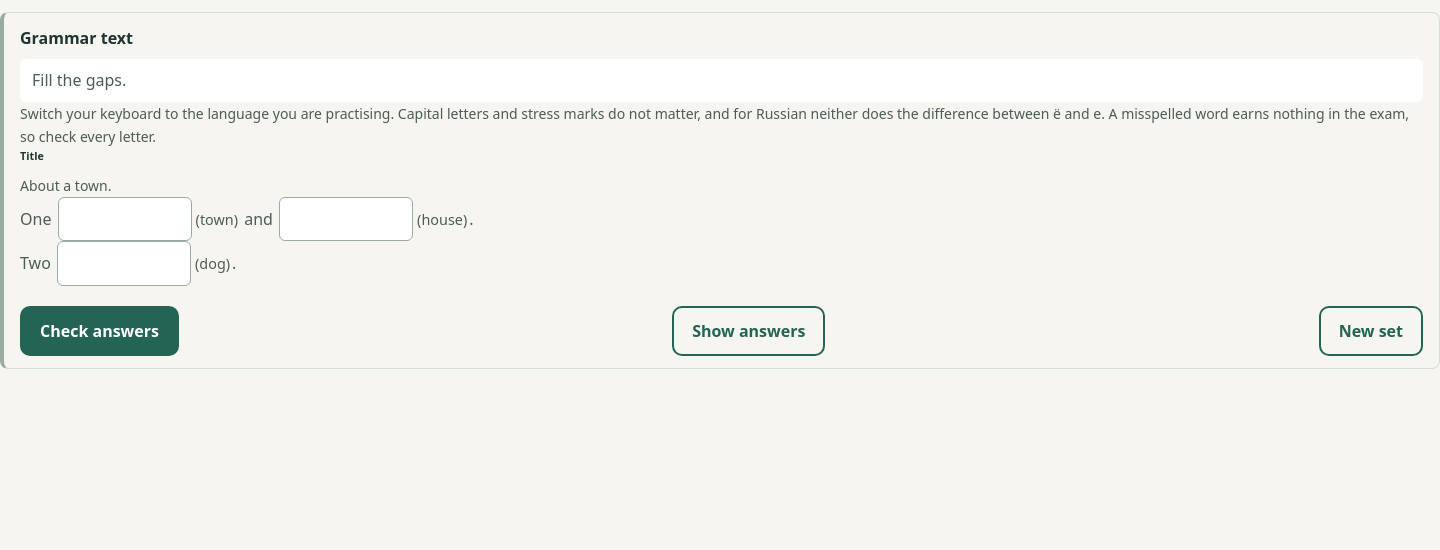
grammar text panel › numbers the gaps across paragraphs, checks them and reports the count
In the field named "Gap 1, word in brackets: town": x=125, y=219 [58,197,192,241], type "TOWNS"
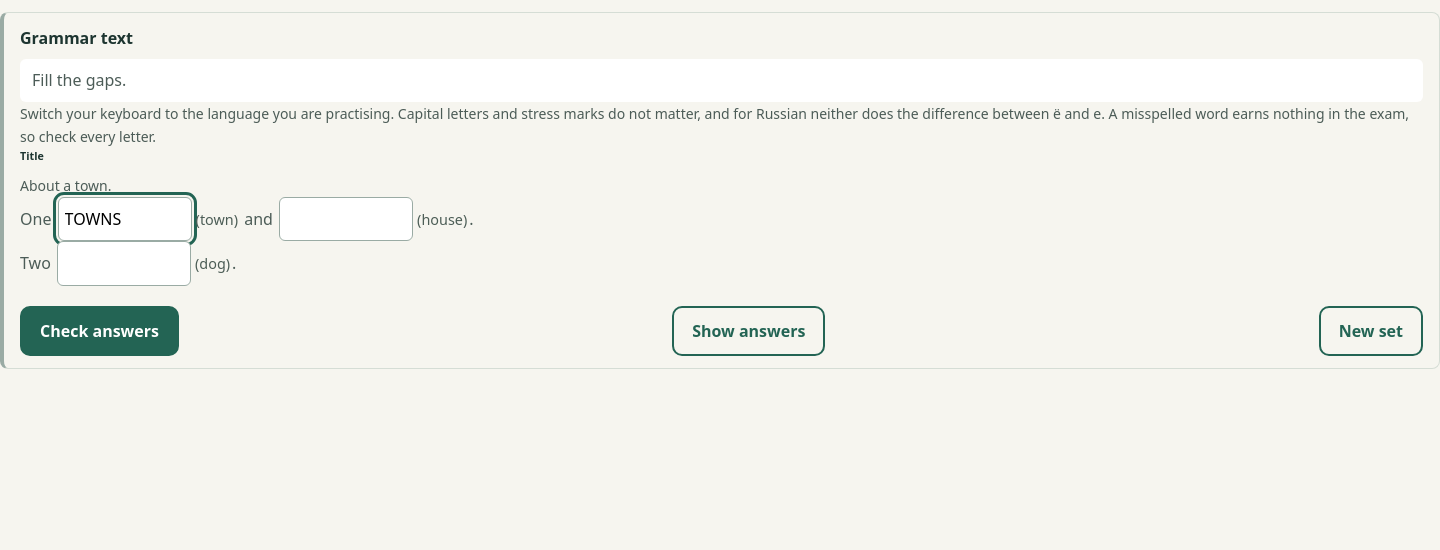
In the field named "Gap 3, word in brackets: dog": x=124, y=263 [57,241,191,286], type "cat"
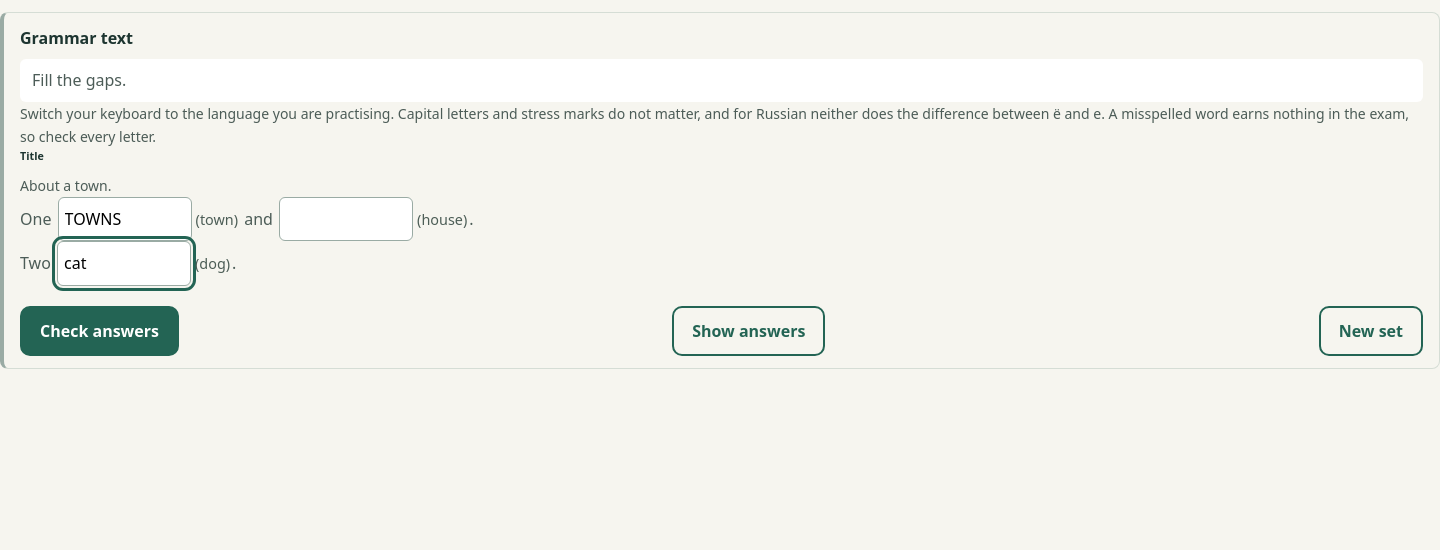
Click the button "Check answers": x=100, y=331 [20,306,179,356]
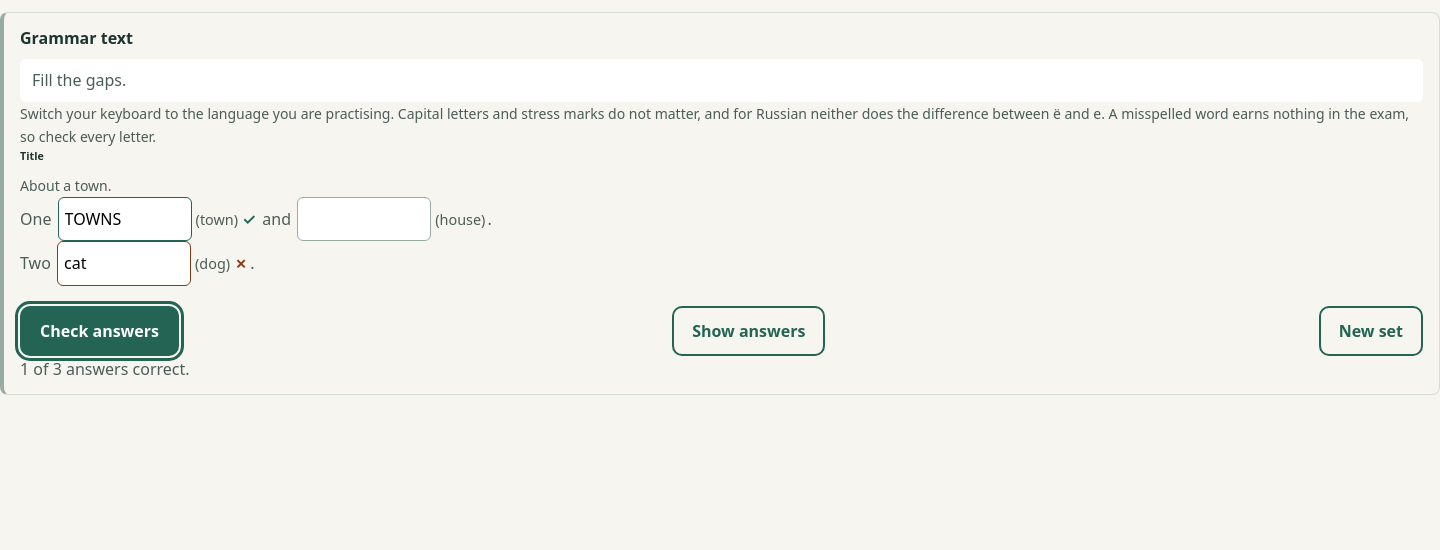
Expected: the message reads "1 of 3 answers correct.", [20,358,190,380]
Click the button "Show answers": x=749, y=331 [672,306,826,356]
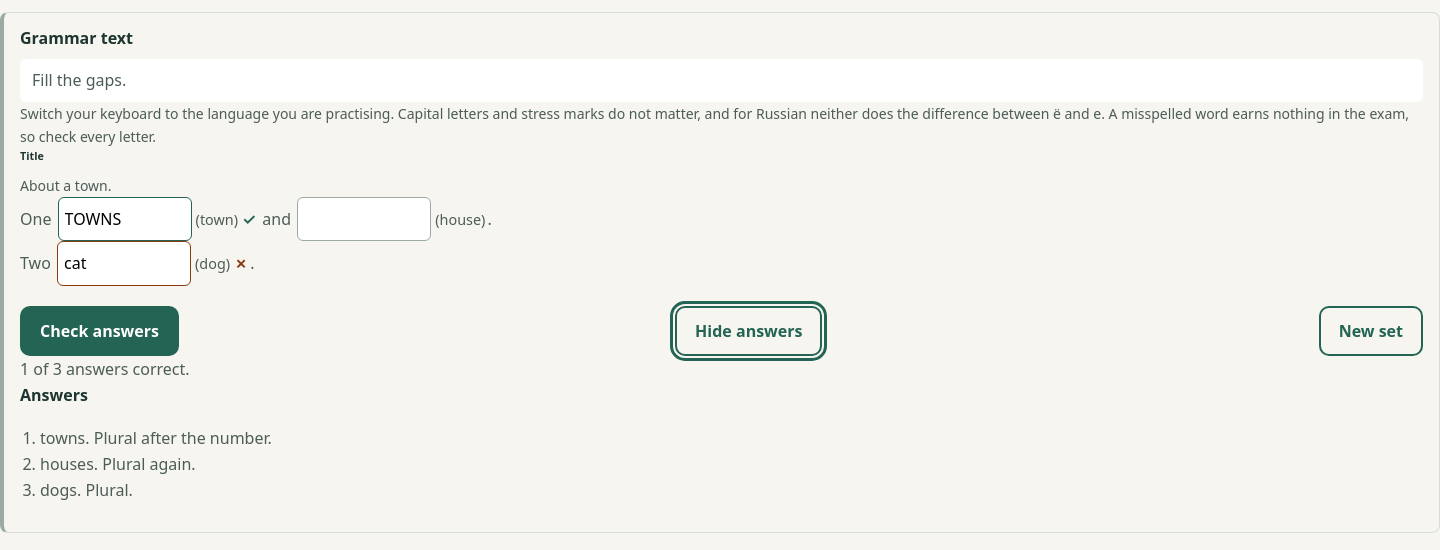
Expected: the list item "houses. Plural again." is shown, [40,453,196,475]
